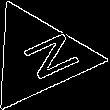N_SW: (4, 27, 74, 86)
